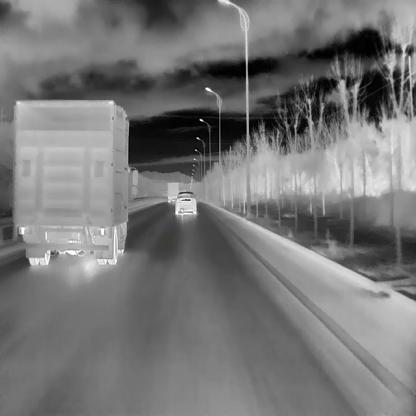car: (174, 191, 196, 214)
truck: (13, 98, 138, 265), (166, 182, 179, 202)
